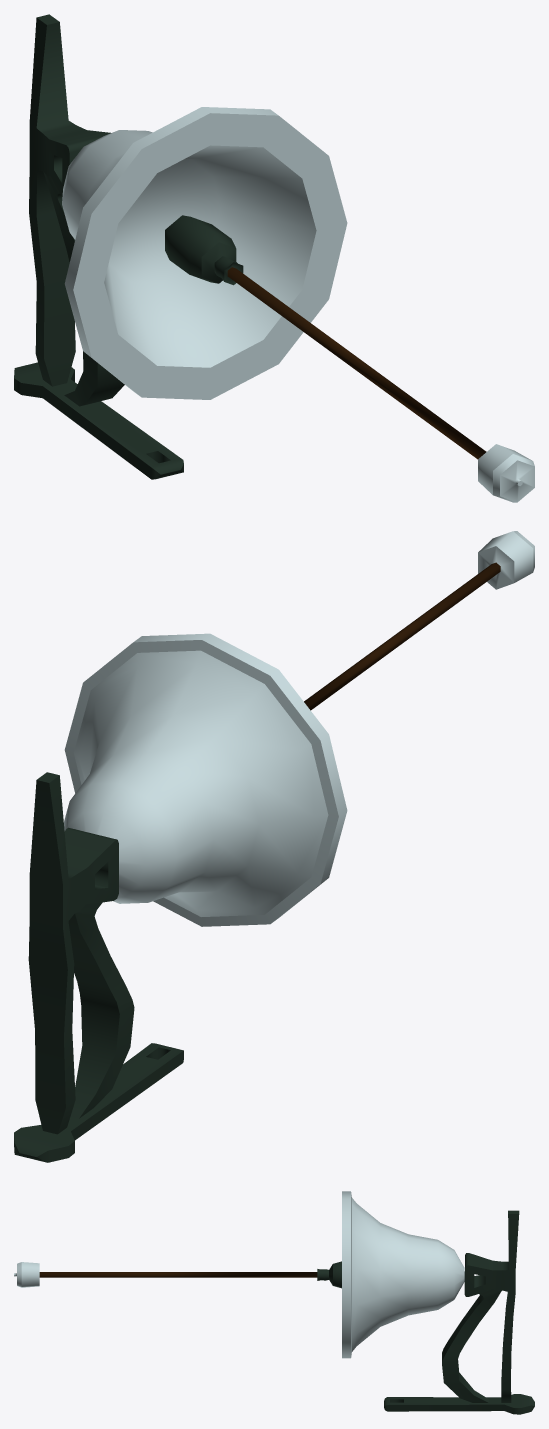
The model's file is Campana.fbx.
The picture shows the model from 3 angles, top to bottom: view 1: azimuth 30°, elevation 25°; view 2: azimuth 150°, elevation 25°; view 3: azimuth 270°, elevation 25°; orthographic projection. The views are drawn at different scales.
Visible parts, largest first — view 1: Campana, Soporte.001, Timbre, Soporte.002; view 2: Campana, Soporte.001, Soporte.002, Timbre; view 3: Campana, Soporte.001, Timbre, Soporte.002.
Boxes of the visible parts, box(x1,y1,x2,y2) form: Campana: box(62, 107, 347, 399); Soporte.001: box(29, 14, 124, 406); Timbre: box(165, 215, 534, 502); Soporte.002: box(14, 362, 183, 479); Campana: box(64, 633, 347, 926); Soporte.001: box(28, 772, 134, 1134); Soporte.002: box(14, 1043, 183, 1162); Timbre: box(304, 531, 534, 710); Campana: box(342, 1191, 464, 1358); Soporte.001: box(442, 1210, 519, 1402); Timbre: box(14, 1261, 341, 1288); Soporte.002: box(384, 1394, 534, 1414).
Size of the model in its own units: 68.78 by 94.45 by 214.
